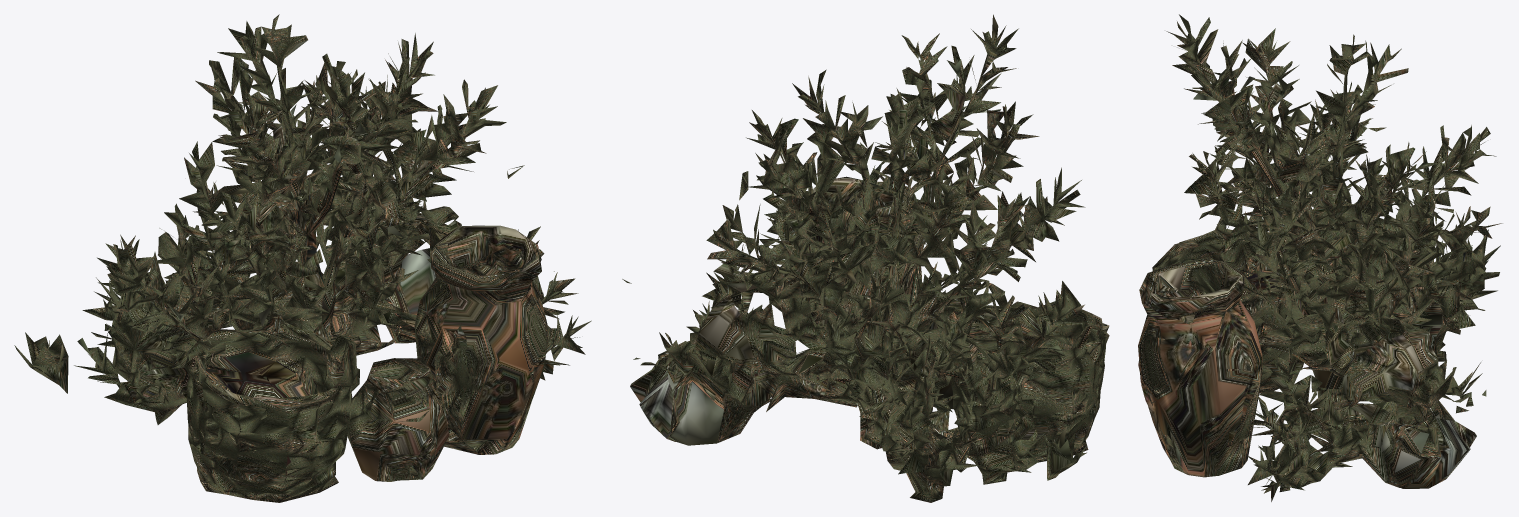
File: olive-basket-cluster-a.glb
The picture shows the model from 3 angles, left to right: view 1: azimuth 30°, elevation 25°; view 2: azimuth 150°, elevation 25°; view 3: azimuth 270°, elevation 25°; orthographic projection. The views are drawn at different scales.
Visible parts, largest first — view 1: geometry_0; view 2: geometry_0; view 3: geometry_0.
Boxes of the visible parts, box(x1,y1,x2,y2) form: geometry_0: box(14, 14, 591, 502); geometry_0: box(622, 14, 1109, 502); geometry_0: box(1138, 14, 1502, 501).
Bounding box in the file's own units: 1.89 × 1.5 × 1.3.
1 material, 1 textured.
